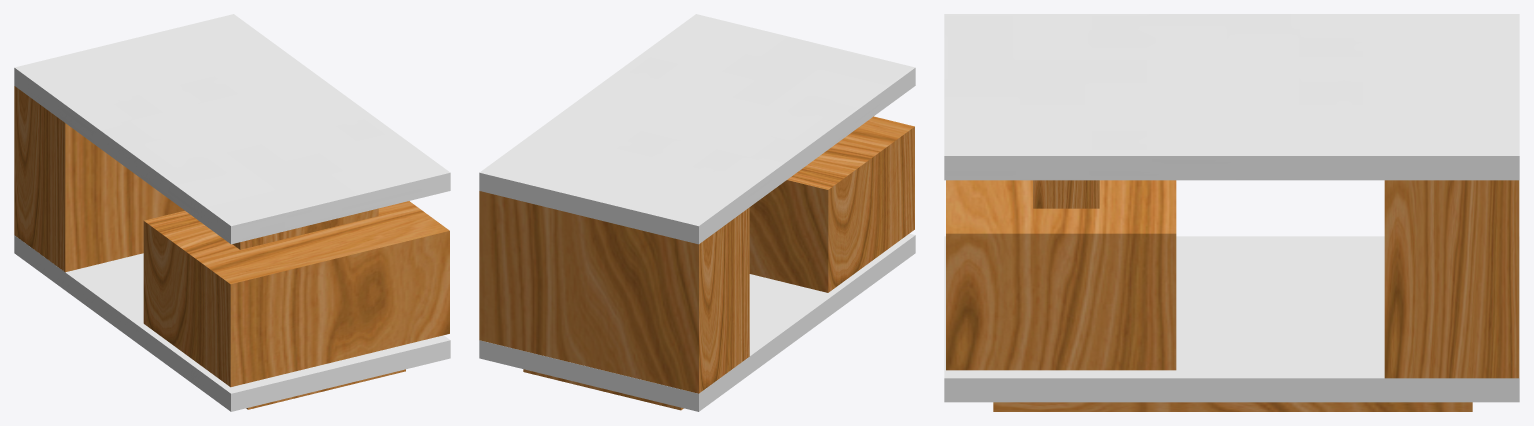
The model's file is centre_table.glb.
3 views of the same model, side by side, from view 1: azimuth 30°, elevation 25°; view 2: azimuth 150°, elevation 25°; view 3: azimuth 270°, elevation 25° (orthographic). The views are drawn at different scales.
Parts seen in each view (by area): view 1: Cube_2, Cube.004_6, Cube.001_3, Cube.002_4, Cube.005_7, Cube.006_8; view 2: Cube_2, Cube.001_3, Cube.004_6, Cube.002_4, Cube.006_8; view 3: Cube_2, Cube.002_4, Cube.004_6, Cube.001_3, Cube.006_8, Cube.005_7.
Part boxes in pixels (bbox=[...]): Cube_2: bbox=[14, 14, 450, 244]; Cube.004_6: bbox=[143, 201, 449, 387]; Cube.001_3: bbox=[14, 86, 184, 272]; Cube.002_4: bbox=[14, 235, 450, 411]; Cube.005_7: bbox=[232, 208, 378, 249]; Cube.006_8: bbox=[246, 369, 405, 409]; Cube_2: bbox=[479, 14, 915, 244]; Cube.001_3: bbox=[479, 191, 749, 393]; Cube.004_6: bbox=[749, 116, 914, 292]; Cube.002_4: bbox=[479, 233, 915, 411]; Cube.006_8: bbox=[523, 369, 683, 410]; Cube_2: bbox=[944, 14, 1519, 180]; Cube.002_4: bbox=[944, 236, 1519, 402]; Cube.004_6: bbox=[946, 180, 1176, 370]; Cube.001_3: bbox=[1384, 180, 1519, 378]; Cube.006_8: bbox=[993, 402, 1472, 411]; Cube.005_7: bbox=[1033, 180, 1099, 208].
Bounding box in the file's own units: 2.63 × 2.35 × 4.49.
Materials: 7 (6 with a texture image).
